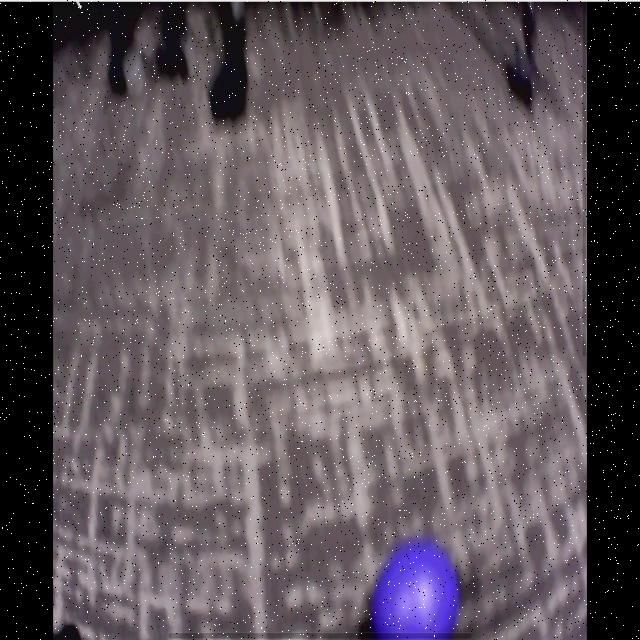ball: (370, 544, 464, 640)
